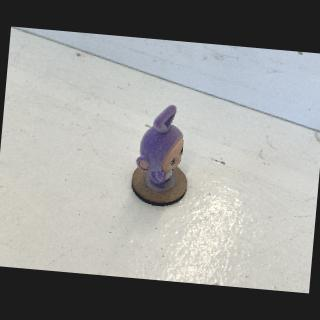teletubby: (136, 105, 184, 188)
